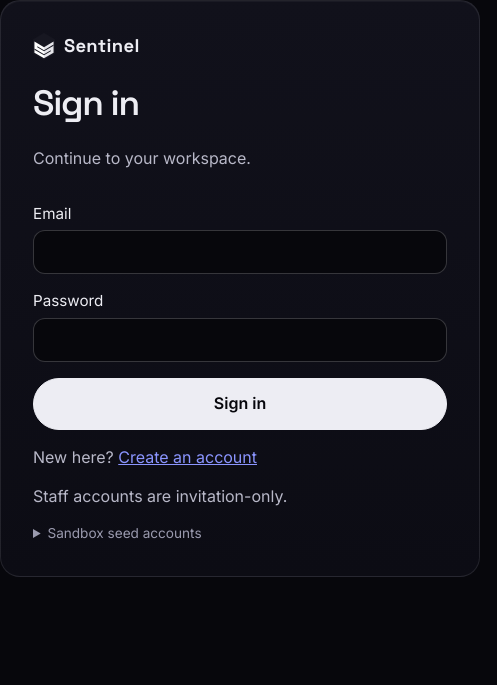
portal auth UI › sign-in failure remains visible
Type "customer@example.test" into the field with test id "login-email". click: x=240, y=252
box: top-left (33, 230), bottom-right (447, 274)
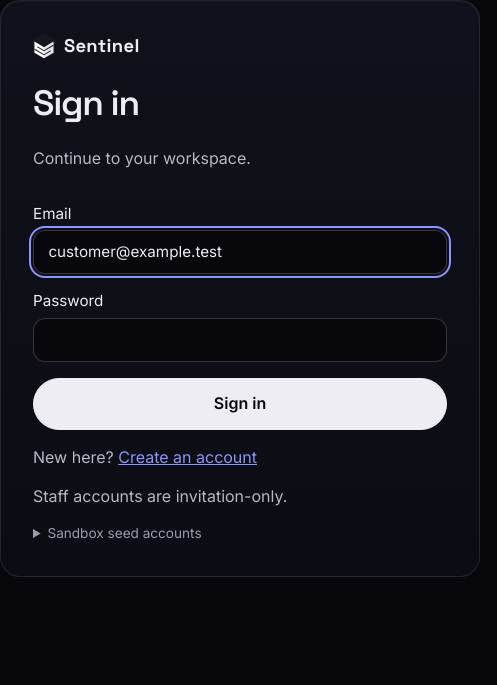
Type "demo-customer" into the password field with test id "login-password". click: x=240, y=340
box: top-left (33, 318), bottom-right (447, 362)
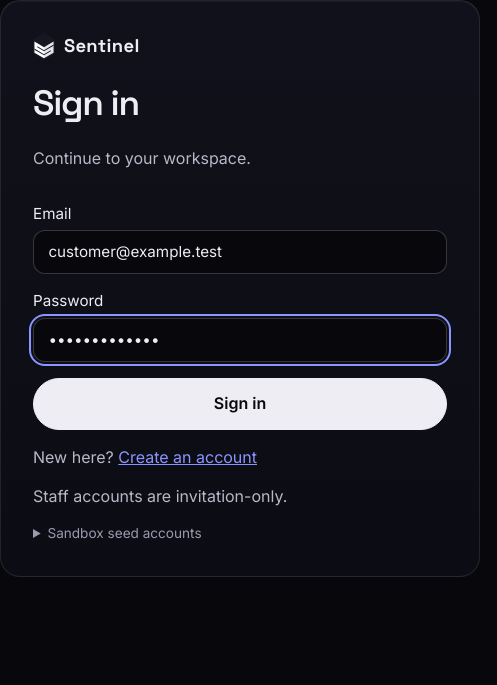
Click the button with test id "login-submit". click: x=240, y=404
box: top-left (33, 378), bottom-right (447, 430)
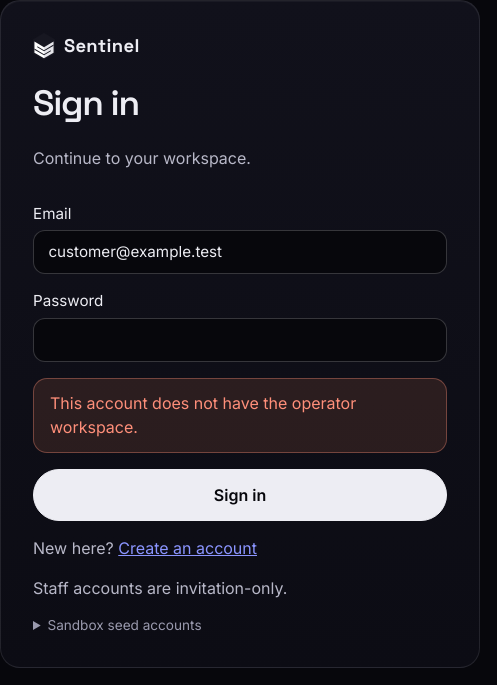
Now the message "This account does not have the operator workspace." is shown, box top-left (33, 378), bottom-right (447, 453)
